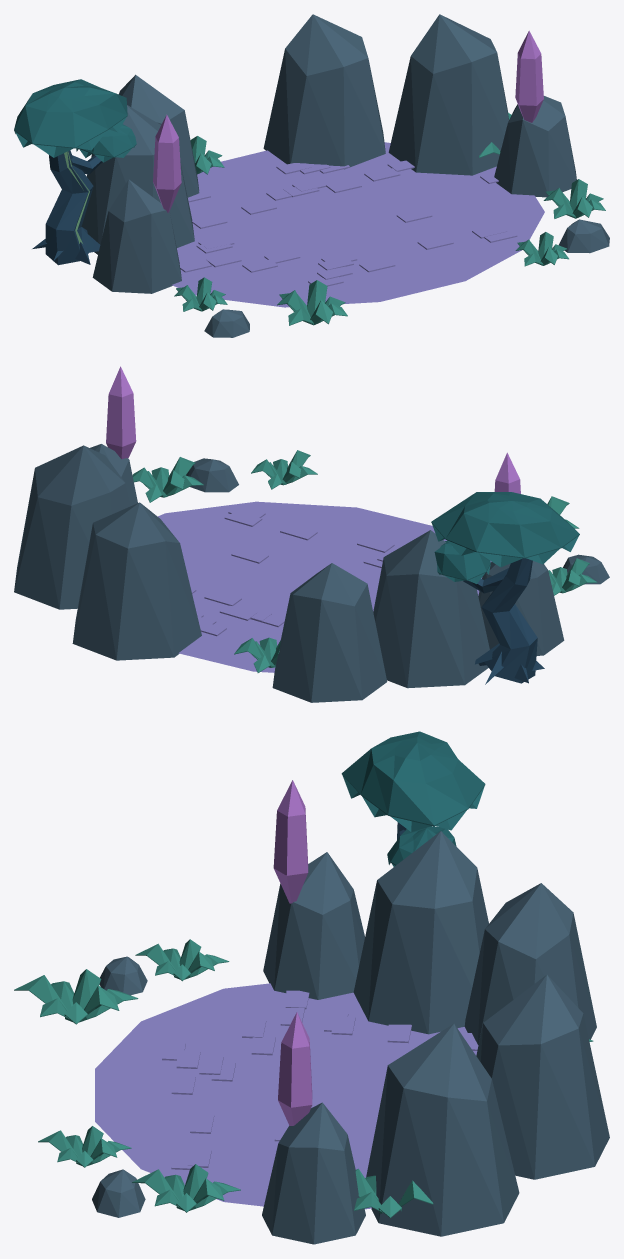
File: decoration.glb
3 views of the same model, one above another, from view 1: azimuth 30°, elevation 25°; view 2: azimuth 150°, elevation 25°; view 3: azimuth 270°, elevation 25° (orthographic). The views are drawn at different scales.
Visible parts, largest first — view 1: Decor_Harmony_CragsAndAmethyst, Decor_Harmony_Glade, Tree_Harmony_0, Decor_Harmony_Understory; view 2: Decor_Harmony_CragsAndAmethyst, Decor_Harmony_Glade, Tree_Harmony_0, Decor_Harmony_Understory; view 3: Decor_Harmony_CragsAndAmethyst, Decor_Harmony_Glade, Decor_Harmony_Understory, Tree_Harmony_0.
Boxes of the visible parts, <box> form: Decor_Harmony_CragsAndAmethyst: <box>81,14,576,293</box>; Decor_Harmony_Glade: <box>172,142,544,307</box>; Tree_Harmony_0: <box>14,79,136,265</box>; Decor_Harmony_Understory: <box>174,113,609,337</box>; Decor_Harmony_CragsAndAmethyst: <box>14,366,564,702</box>; Decor_Harmony_Glade: <box>158,501,491,672</box>; Tree_Harmony_0: <box>431,492,579,684</box>; Decor_Harmony_Understory: <box>132,450,609,672</box>; Decor_Harmony_CragsAndAmethyst: <box>262,780,609,1244</box>; Decor_Harmony_Glade: <box>95,983,478,1209</box>; Decor_Harmony_Understory: <box>14,939,593,1218</box>; Tree_Harmony_0: <box>341,731,485,866</box>.
Size of the model in its own units: 1.78 by 0.5506 by 1.4.
